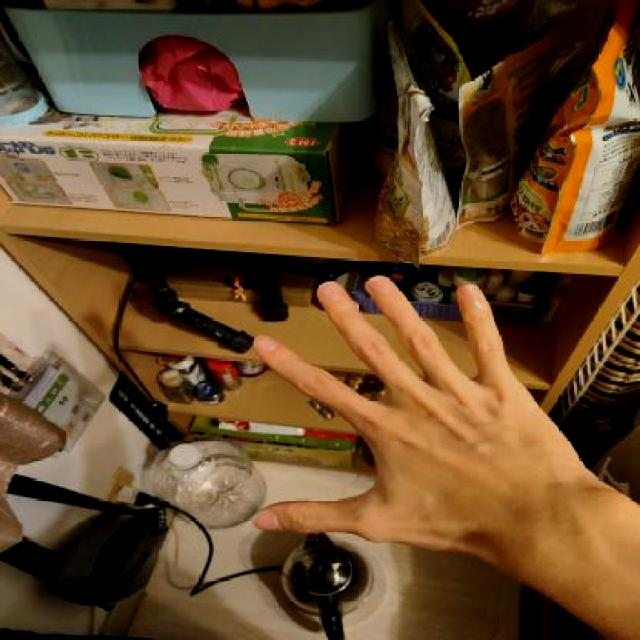no_glove: (235, 270, 593, 578)
